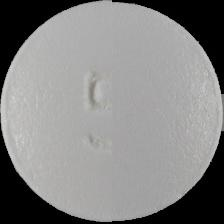13668-102: (0, 0, 224, 224)
